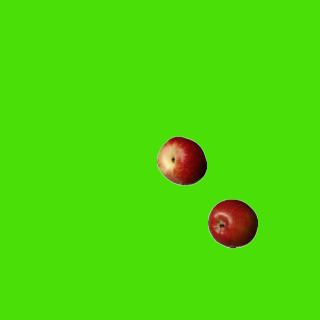Apple Braeburn: (207, 198, 257, 248)
Nectarine: (156, 135, 206, 185)
